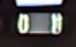COMP: (13, 11, 66, 38)
GAP: (15, 1, 62, 18)
